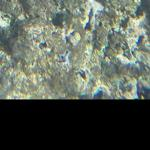dead: (5, 1, 144, 97)
